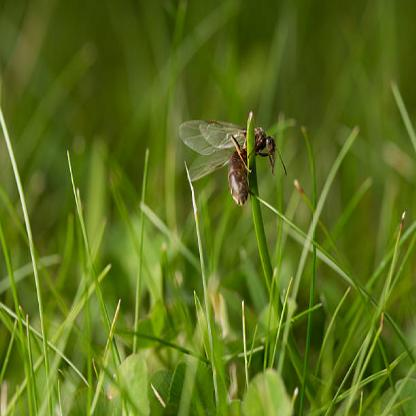sawfly: (179, 113, 292, 211)
